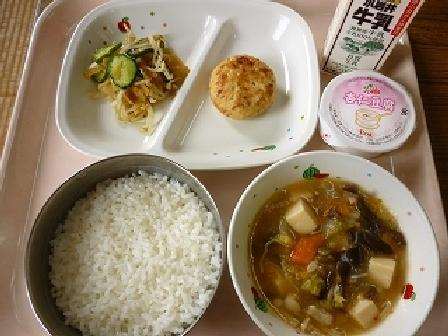Cup desserts: (313, 68, 430, 163)
Milk: (316, 0, 431, 73)
Rice: (35, 166, 223, 334)
Salad: (82, 28, 198, 131)
Soups: (232, 164, 443, 334)
cutlet: (206, 46, 292, 127)
